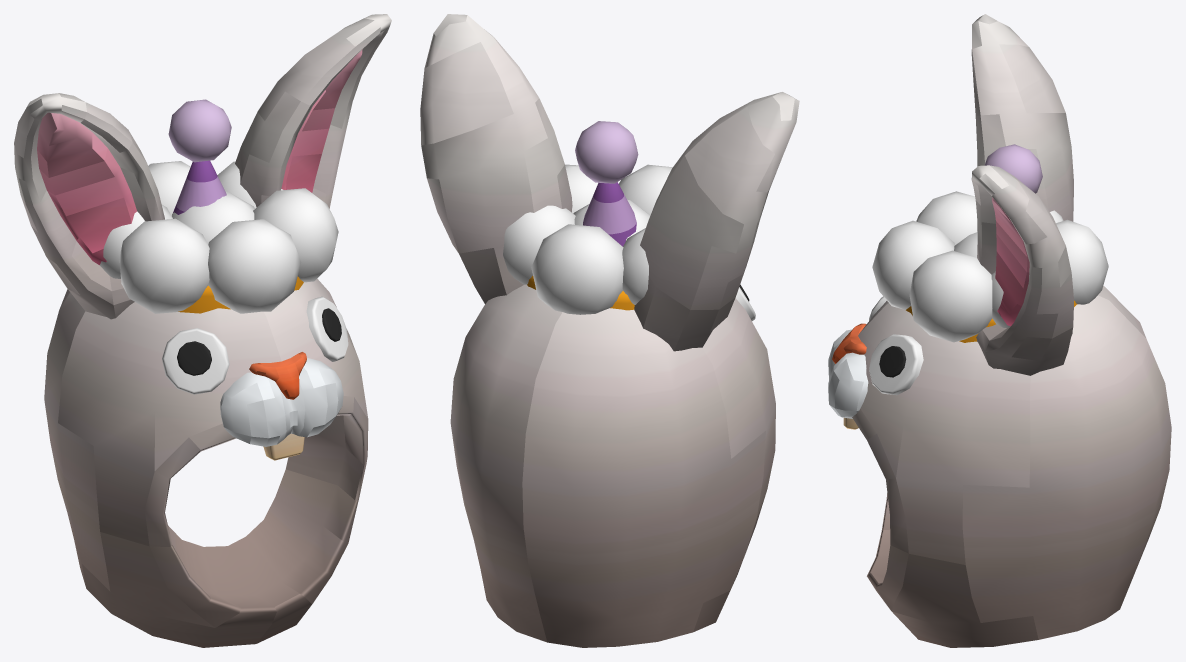
Rendered from hats.glb.
3 renders of one model, left to right at view 1: azimuth 30°, elevation 25°; view 2: azimuth 150°, elevation 25°; view 3: azimuth 270°, elevation 25°, orthographic. The views are drawn at different scales.
Visible parts, largest first — view 1: hat_single_016, chef_hat, party_hat, orange_fedora; view 2: hat_single_016, chef_hat, party_hat; view 3: hat_single_016, chef_hat, party_hat.
Boxes of the visible parts, <box> form: hat_single_016: <box>14,14,391,647</box>; chef_hat: <box>99,161,338,313</box>; party_hat: <box>168,99,231,214</box>; orange_fedora: <box>178,276,303,313</box>; hat_single_016: <box>420,14,799,647</box>; chef_hat: <box>503,164,672,314</box>; party_hat: <box>575,121,638,246</box>; hat_single_016: <box>828,14,1171,647</box>; chef_hat: <box>872,191,1108,342</box>; party_hat: <box>984,144,1042,193</box>.
Bounding box in the file's own units: 1.54 × 2.29 × 1.35.
2 materials, 2 textured.
